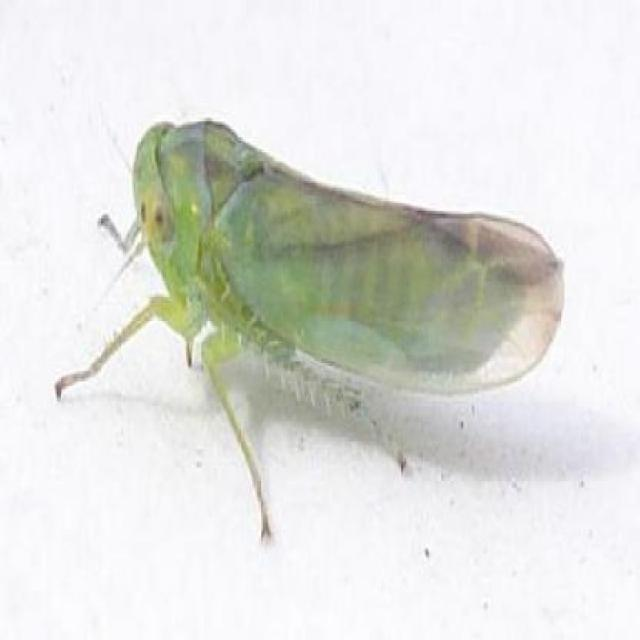green-leafhopper: (57, 119, 566, 541)
